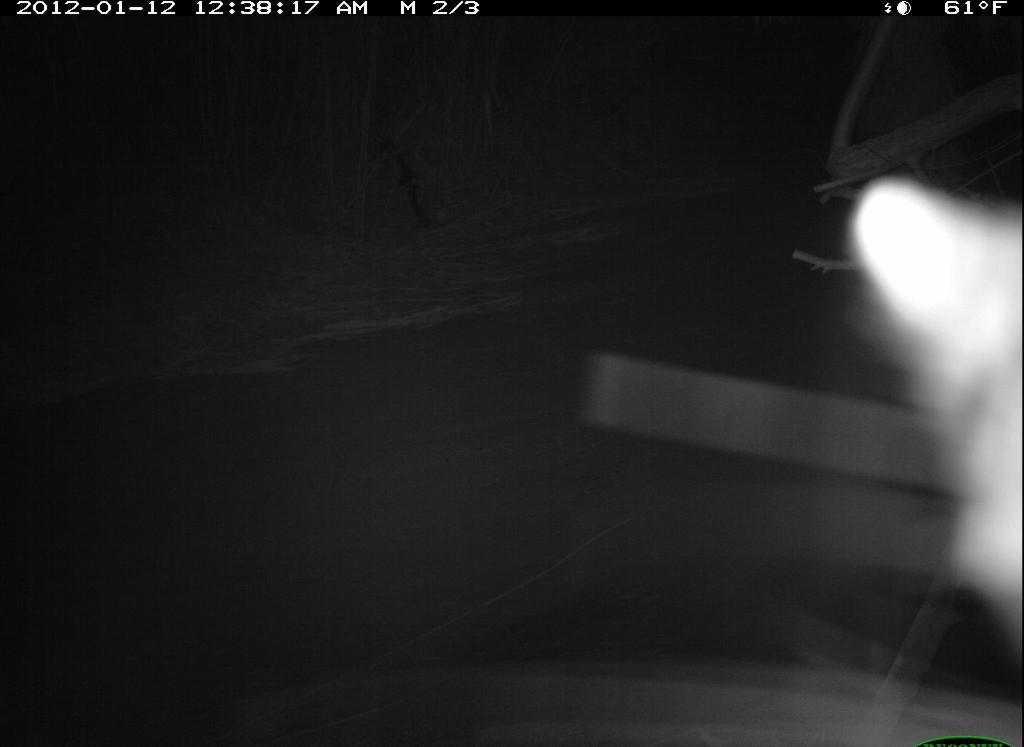raccoon: (821, 177, 1021, 669)
